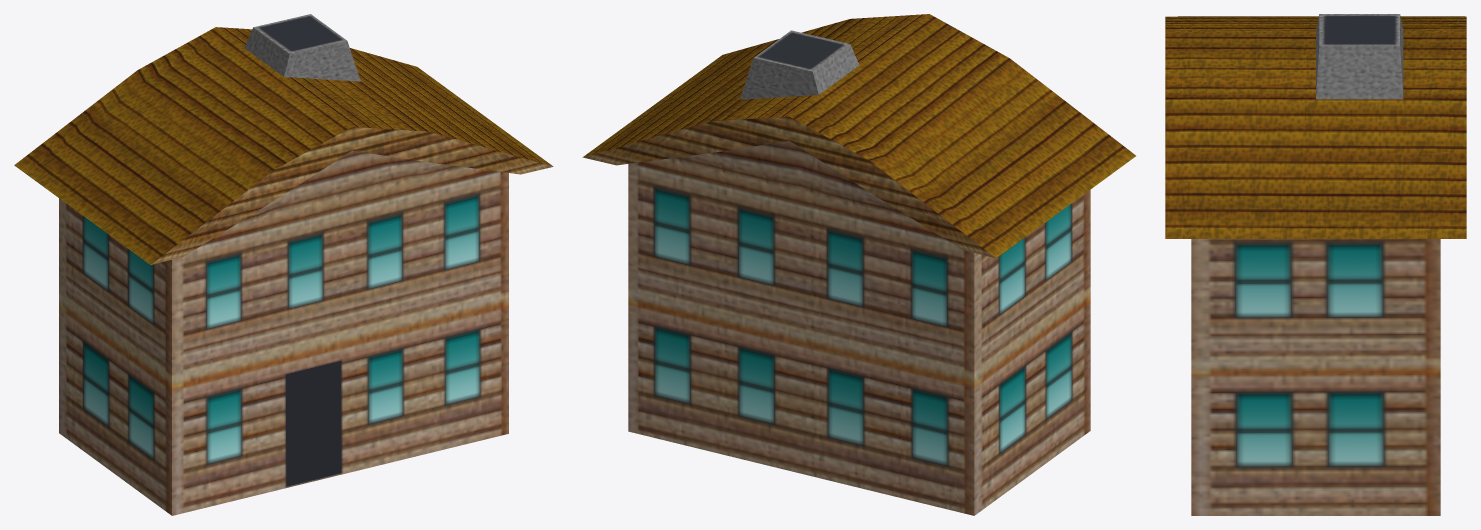
Rendered from house_2.fbx.
3 views of the same model, side by side, from view 1: azimuth 30°, elevation 25°; view 2: azimuth 150°, elevation 25°; view 3: azimuth 270°, elevation 25° (orthographic). The views are drawn at different scales.
Parts seen in each view (by area): view 1: pCube267; view 2: pCube267; view 3: pCube267.
Boxes of the visible parts, left/top/right/bottom form: pCube267: left=14, top=14, right=553, bottom=515; pCube267: left=582, top=14, right=1135, bottom=515; pCube267: left=1165, top=14, right=1466, bottom=515.
Bounding box in the file's own units: 53.16 × 47.42 × 31.16.
Materials: 1 (1 with a texture image).
